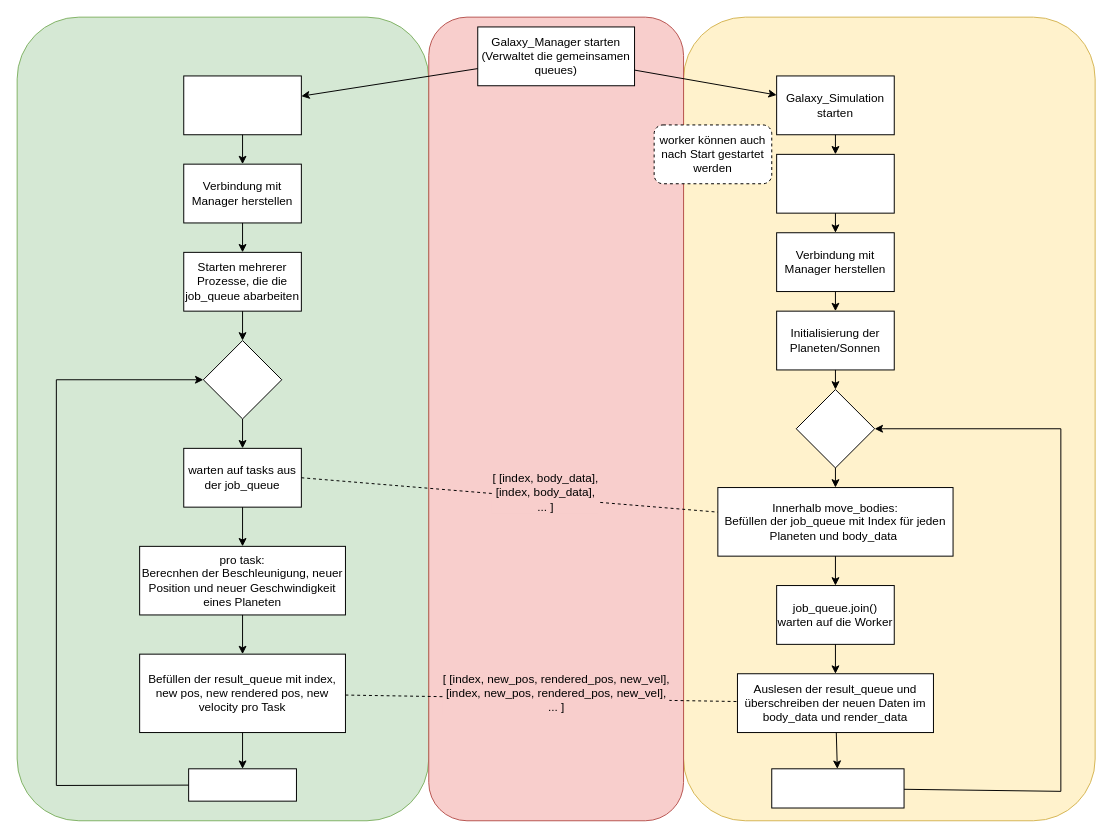
Image size: 1112x838. Some labels were removed from this diagram. The centre of each missing label's shape, as x and y in pixels:
"Galaxy_worker starten" belongs at (242,105).
"neu zeichnen (läuft automatisch)" belongs at (837,788).
"solange sim läuft" belongs at (835,428).
"solange worker läuft" belongs at (242,379).
"Start-Button in Simulation clicken" belongs at (835,183).
"task_done" belongs at (242,784).
